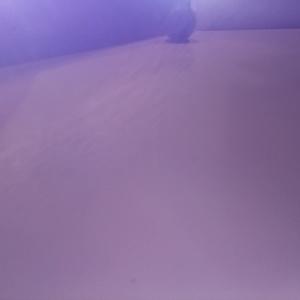dead_ball: (162, 4, 196, 41)
